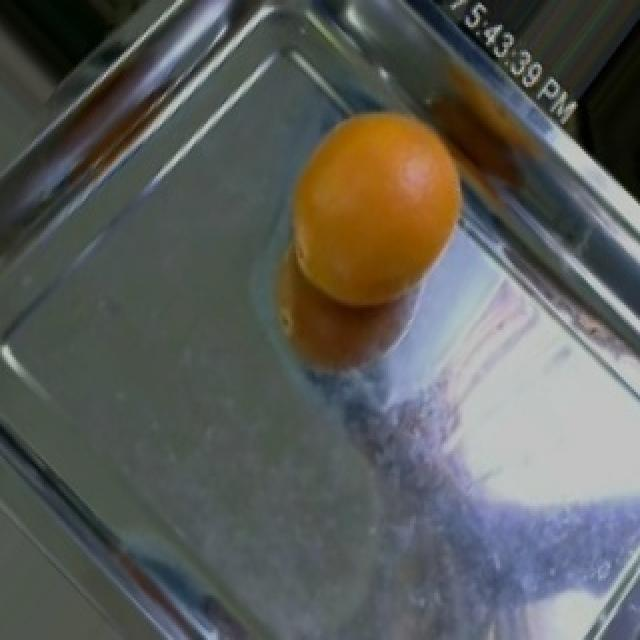Fruit: (276, 87, 488, 327)
